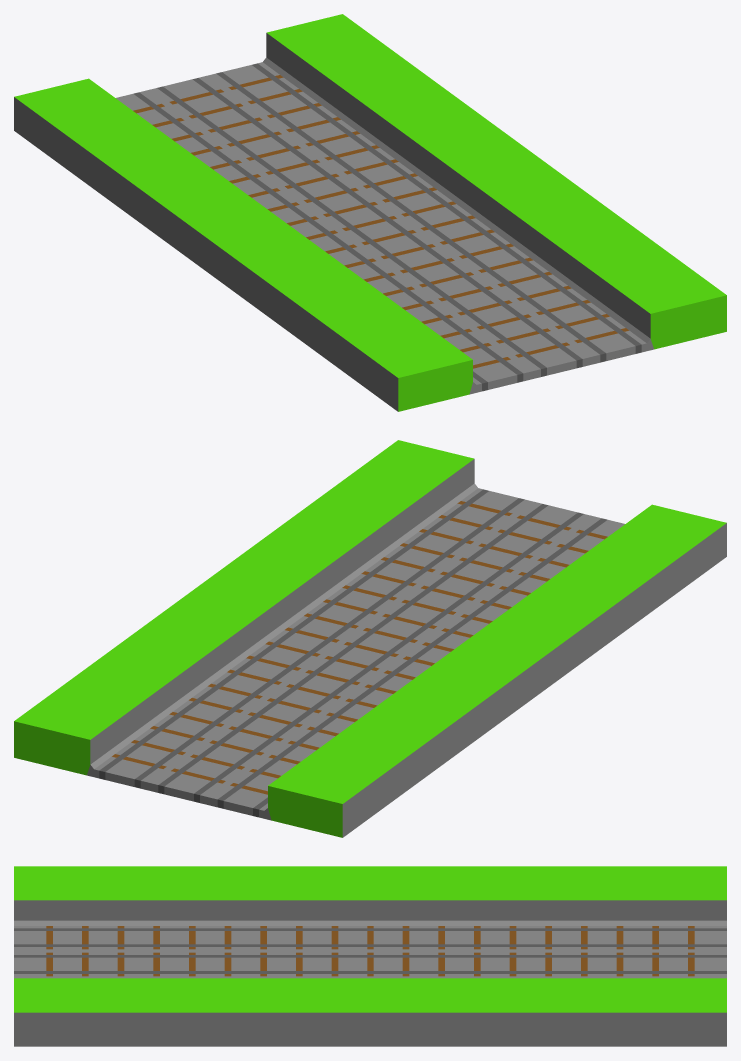
File: Track.fbx
3 views of the same model, one above another, from view 1: azimuth 30°, elevation 25°; view 2: azimuth 150°, elevation 25°; view 3: azimuth 270°, elevation 25° (orthographic). The views are drawn at different scales.
Parts seen in each view (by area): view 1: Cube; view 2: Cube; view 3: Cube.
Boxes of the visible parts, box(x1,y1,x2,y2) form: Cube: box(14, 14, 726, 411); Cube: box(14, 440, 726, 837); Cube: box(14, 866, 726, 1046).
Size of the model in its own units: 1482 by 157 by 3000.
